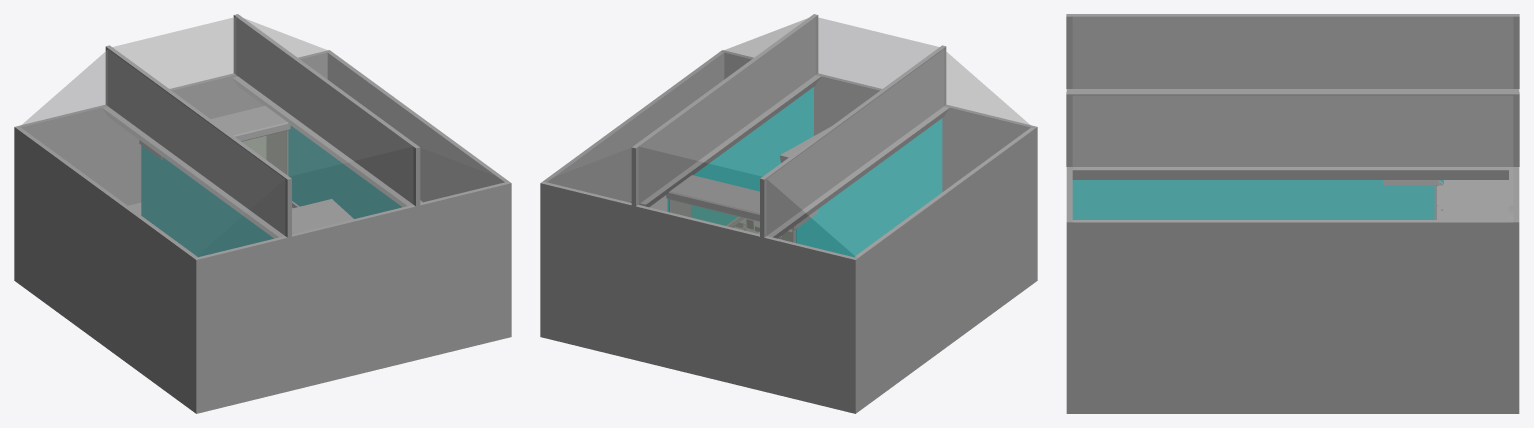
Rendered from lab 1.fbx.
The picture shows the model from 3 angles, left to right: view 1: azimuth 30°, elevation 25°; view 2: azimuth 150°, elevation 25°; view 3: azimuth 270°, elevation 25°; orthographic projection. The views are drawn at different scales.
Visible parts, largest first — view 1: glass_roof, pCube2, pCube3, pCube64, pCube65, pCube4, glass1, pCube5, pasted__pCube46, ground, pCube59, pCube62 (+3 smaller); view 2: glass_roof, pCube4, pCube3, pCube64, pCube65, glass1, pCube2, pCube5, pasted__pCube46, pCube60, ground, pCube59 (+2 smaller); view 3: glass_roof, pCube5, pCube64, pCube65, pasted__pCube46, pCube62, second_floor, ground, pCube4, pCube2, pCube59.
Part boxes in pixels (bbox=[...]): glass_roof: bbox=[18, 16, 507, 257]; pCube2: bbox=[194, 181, 511, 409]; pCube3: bbox=[17, 127, 197, 407]; pCube64: bbox=[233, 14, 420, 206]; pCube65: bbox=[105, 45, 291, 237]; pCube4: bbox=[14, 50, 331, 277]; glass1: bbox=[141, 145, 273, 256]; pCube5: bbox=[327, 52, 508, 202]; pasted__pCube46: bbox=[288, 126, 401, 218]; ground: bbox=[14, 276, 511, 413]; pCube59: bbox=[102, 106, 294, 238]; pCube62: bbox=[232, 76, 422, 206]; glass_roof: bbox=[544, 16, 1033, 257]; pCube4: bbox=[540, 181, 857, 409]; pCube3: bbox=[854, 127, 1034, 407]; pCube64: bbox=[631, 14, 818, 206]; pCube65: bbox=[760, 45, 946, 237]; glass1: bbox=[796, 118, 942, 256]; pCube2: bbox=[720, 50, 1037, 277]; pCube5: bbox=[543, 52, 724, 202]; pasted__pCube46: bbox=[667, 87, 813, 225]; pCube60: bbox=[666, 175, 817, 229]; ground: bbox=[540, 276, 1037, 413]; pCube59: bbox=[757, 106, 949, 238]; glass_roof: bbox=[1073, 15, 1512, 222]; pCube5: bbox=[1072, 220, 1513, 408]; pCube64: bbox=[1066, 92, 1519, 166]; pCube65: bbox=[1066, 14, 1519, 88]; pasted__pCube46: bbox=[1072, 180, 1434, 219]; pCube62: bbox=[1072, 167, 1508, 179]; second_floor: bbox=[1437, 167, 1513, 219]; ground: bbox=[1066, 408, 1519, 413]; pCube4: bbox=[1513, 89, 1519, 408]; pCube2: bbox=[1066, 89, 1072, 408]; pCube59: bbox=[1072, 89, 1513, 91].
Bounding box in the file's own units: 75.07 × 48.61 × 75.11.
